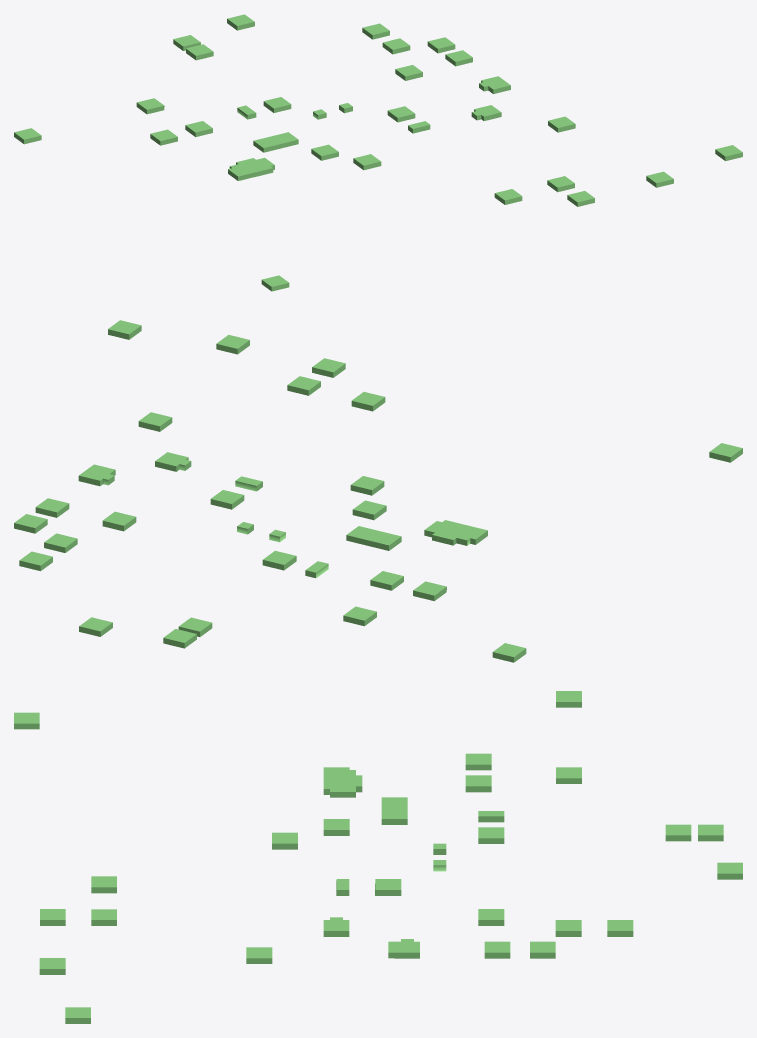
Rendered from object_47_lev1_lev2.glb.
The picture shows the model from 3 angles, top to bottom: view 1: azimuth 30°, elevation 25°; view 2: azimuth 150°, elevation 25°; view 3: azimuth 270°, elevation 25°; orthographic projection. The views are drawn at different scales.
Visible parts, largest first — view 1: object_47_lev1_lev2; view 2: object_47_lev1_lev2; view 3: object_47_lev1_lev2.
Part boxes in pixels (bbox=[...]): object_47_lev1_lev2: bbox=[14, 14, 742, 291]; object_47_lev1_lev2: bbox=[14, 320, 742, 662]; object_47_lev1_lev2: bbox=[14, 691, 742, 1023].
Size of the model in its own units: 74.4 by 0.6202 by 70.07.
